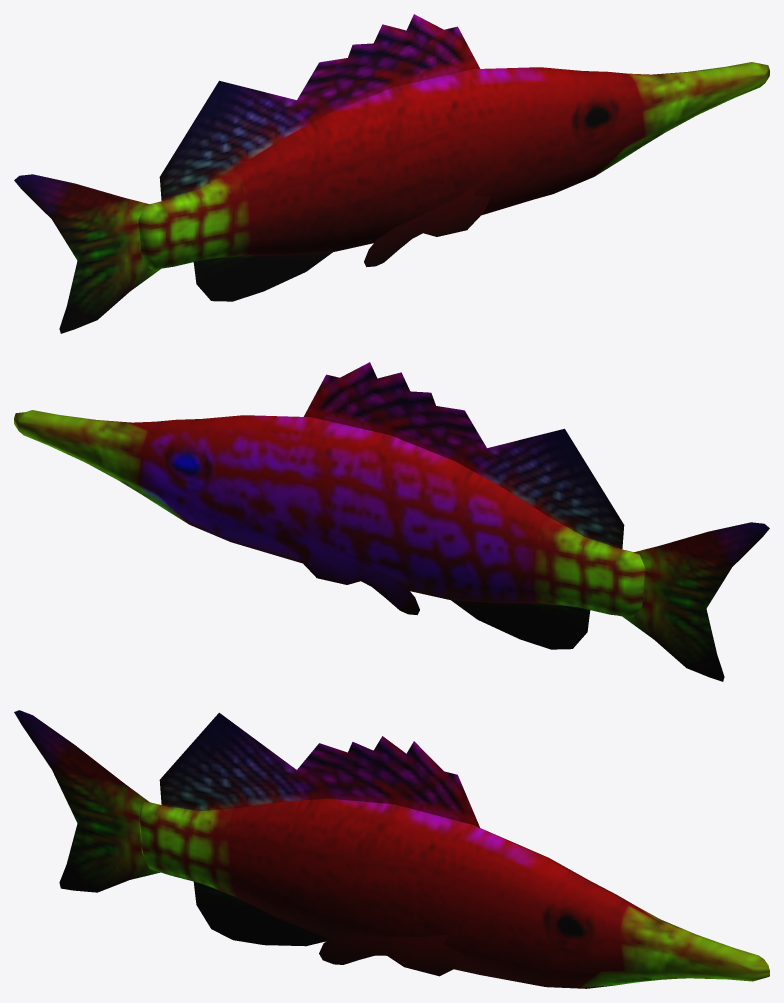
Rendered from longnose_hawkfish.glb.
3 views of the same model, one above another, from view 1: azimuth 30°, elevation 25°; view 2: azimuth 150°, elevation 25°; view 3: azimuth 330°, elevation 25° (orthographic).
Parts seen in each view (by area): view 1: LongnoseHawkfish; view 2: LongnoseHawkfish; view 3: LongnoseHawkfish.
Boxes of the visible parts, x1,y1,x2,y2 form: LongnoseHawkfish: (14,14,769,333); LongnoseHawkfish: (14,362,769,681); LongnoseHawkfish: (14,710,769,988).
Bounding box in the file's own units: 1 × 0.3077 × 0.1036.
Materials: 1 (1 with a texture image).
